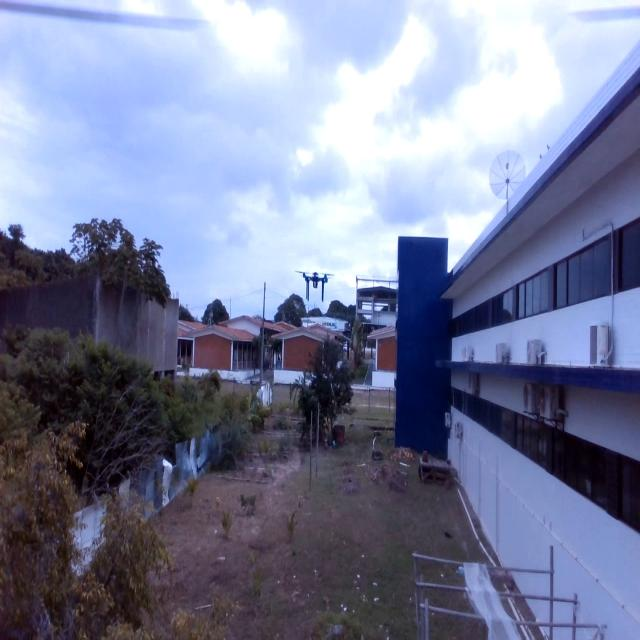-uav-: (290, 261, 339, 308)
